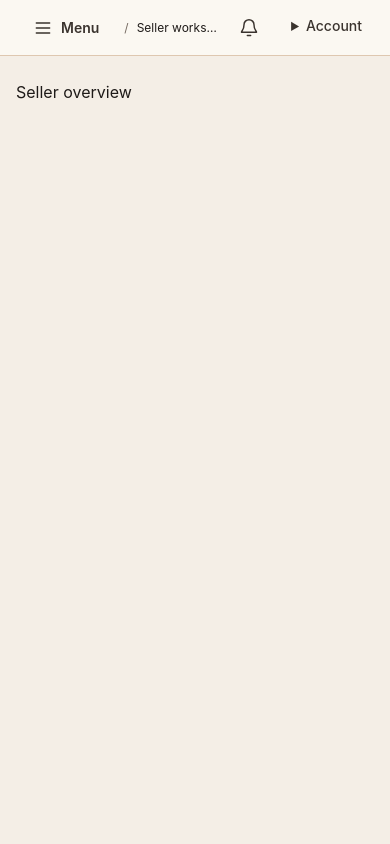
Test: workspace authorization UX › hides platform navigation without an explicit permission and supports mobile navigation
Expected: the heading "Seller overview" is shown, [16,82,132,102]
Click the button "Menu". click: (66, 28)
box: [16,6,116,50]
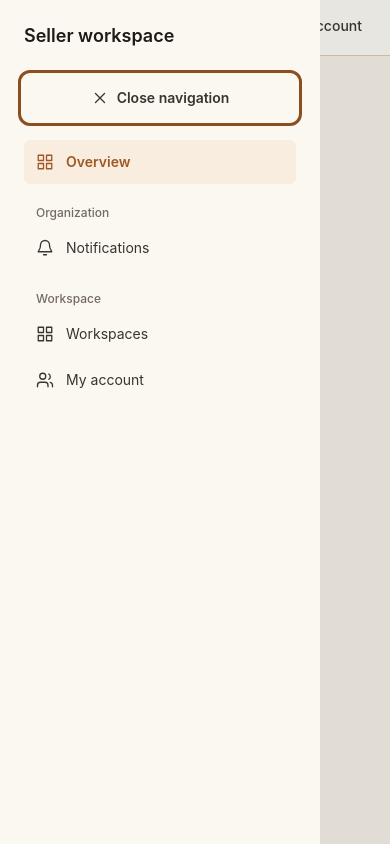
Expected: the navigation bar named "Breadcrumb" is shown, [124,20,234,34]
Expected: the button "Menu" is expanded, [16,6,116,50]
